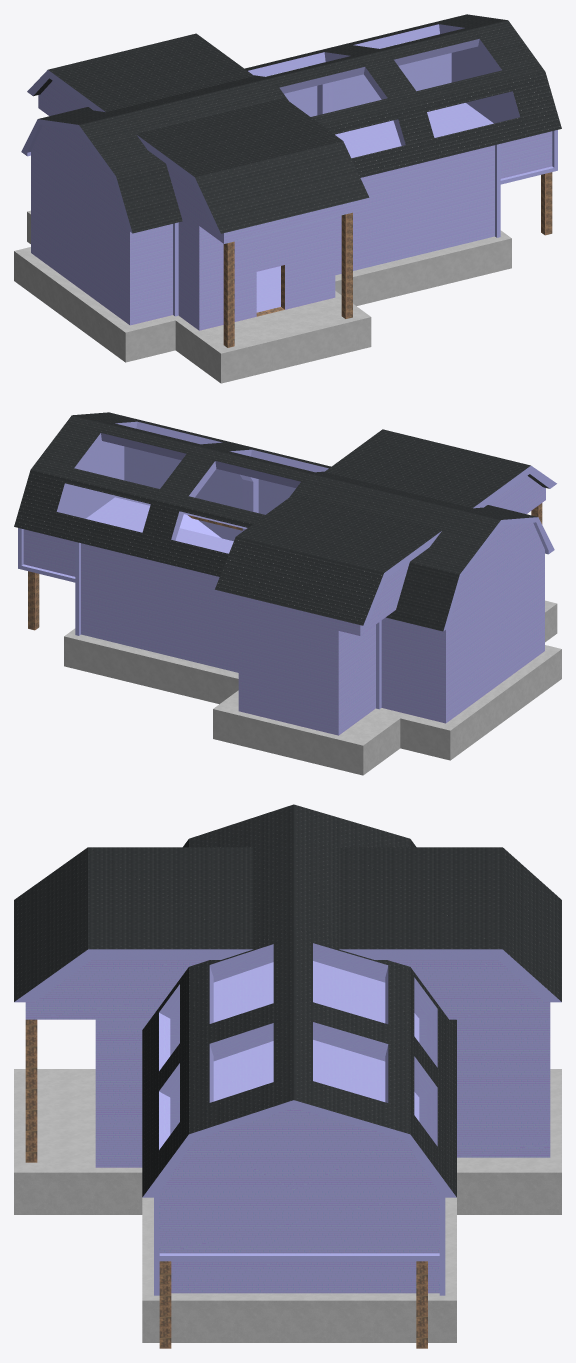
File: House.fbx
3 views of the same model, one above another, from view 1: azimuth 30°, elevation 25°; view 2: azimuth 150°, elevation 25°; view 3: azimuth 270°, elevation 25° (orthographic). The views are drawn at different scales.
Visible parts, largest first — view 1: MaterialMesh_5, MaterialMesh_3, MaterialMesh_4, MaterialMesh_1, MaterialMesh_2, MaterialMesh; view 2: MaterialMesh_5, MaterialMesh_3, MaterialMesh_4, MaterialMesh_1, MaterialMesh_2, MaterialMesh; view 3: MaterialMesh_5, MaterialMesh_3, MaterialMesh_4, MaterialMesh_2, MaterialMesh_1, MaterialMesh.
Boxes of the visible parts, x1,y1,x2,y2 form: MaterialMesh_5: (33,14,561,233); MaterialMesh_3: (31,81,552,330); MaterialMesh_4: (14,210,511,383); MaterialMesh_1: (21,46,557,316); MaterialMesh_2: (248,24,519,312); MaterialMesh: (223,172,552,347); MaterialMesh_5: (14,412,549,631); MaterialMesh_3: (23,476,545,735); MaterialMesh_4: (64,600,561,775); MaterialMesh_1: (18,441,556,709); MaterialMesh_2: (56,421,328,553); MaterialMesh: (28,503,542,630); MaterialMesh_5: (14,804,561,1197); MaterialMesh_3: (25,960,550,1293); MaterialMesh_4: (14,1069,561,1342); MaterialMesh_2: (159,943,437,1149); MaterialMesh_1: (14,949,561,1295); MaterialMesh: (25,1019,427,1348).
Size of the model in its own units: 3050 by 1312 by 2350.
